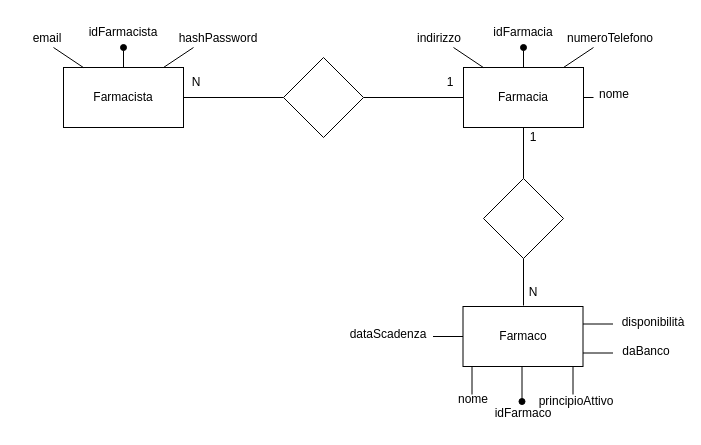
Some shapes in this 701 by 445 pixel diagram are drawn without their labels. Each missing label, with the centre of its shape:
"impiega" belongs at (323,97).
"possiede" belongs at (523,218).
